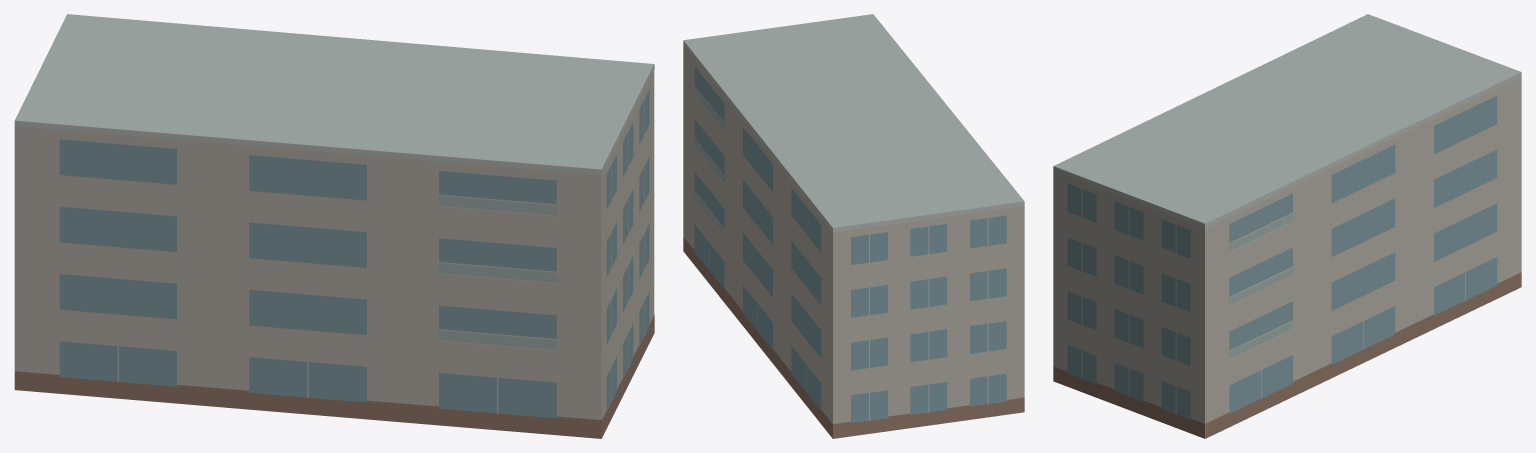
Rendered from survey-upis-32982414.glb.
The picture shows the model from 3 angles, left to right: view 1: azimuth 30°, elevation 25°; view 2: azimuth 150°, elevation 25°; view 3: azimuth 270°, elevation 25°; orthographic projection. The views are drawn at different scales.
Visible parts, largest first — view 1: survey-upis-32982414.tmp; view 2: survey-upis-32982414.tmp; view 3: survey-upis-32982414.tmp.
Boxes of the visible parts, bbox=[...] form: survey-upis-32982414.tmp: bbox=[14, 14, 654, 438]; survey-upis-32982414.tmp: bbox=[683, 14, 1024, 438]; survey-upis-32982414.tmp: bbox=[1053, 14, 1521, 438].
Size of the model in its own units: 24.04 by 11.5 by 22.68.
